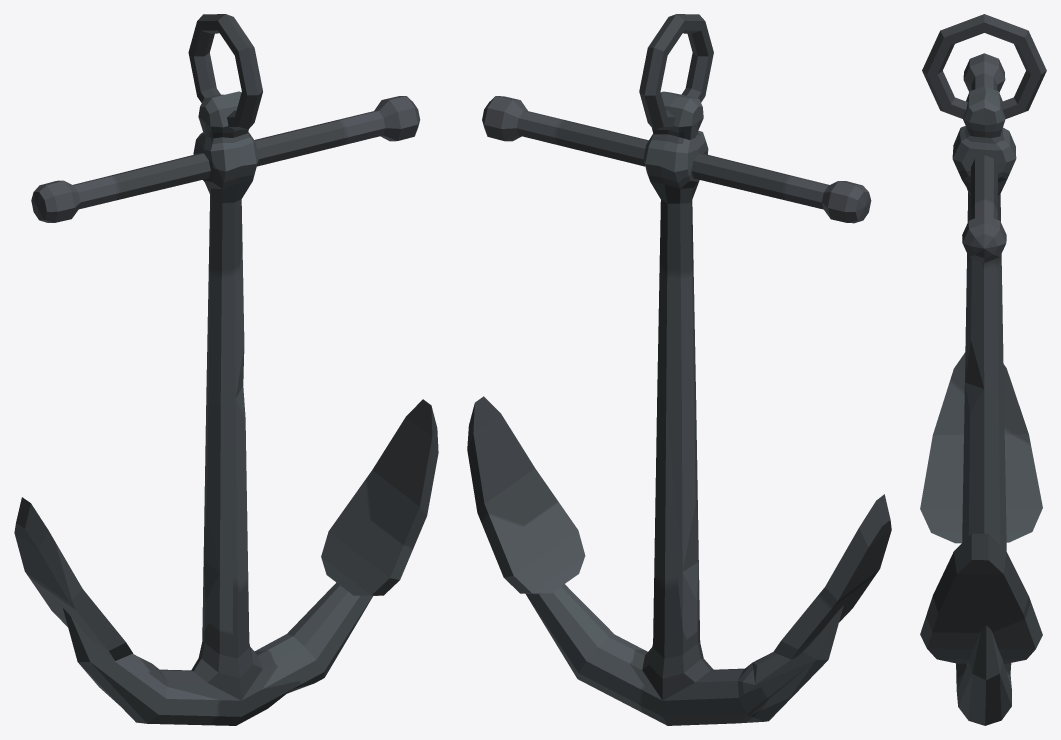
File: SM_Prop_Anchor_01.fbx
3 renders of one model, left to right at view 1: azimuth 30°, elevation 25°; view 2: azimuth 150°, elevation 25°; view 3: azimuth 270°, elevation 25°, orthographic. The views are drawn at different scales.
Visible parts, largest first — view 1: SM_Prop_Anchor_01; view 2: SM_Prop_Anchor_01; view 3: SM_Prop_Anchor_01.
Part boxes in pixels (bbox=[...]): SM_Prop_Anchor_01: bbox=[14, 14, 438, 725]; SM_Prop_Anchor_01: bbox=[467, 14, 891, 725]; SM_Prop_Anchor_01: bbox=[920, 14, 1046, 725].
Bounding box in the file's own units: 157 × 257 × 42.66.
